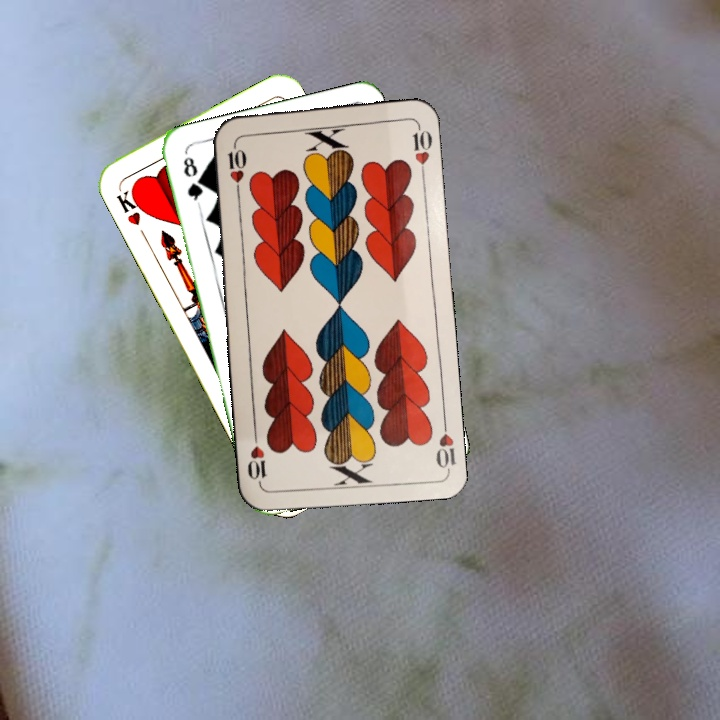G8: (179, 152, 206, 208)
H10: (432, 413, 457, 472), (224, 138, 248, 197)
HK: (112, 183, 149, 228)
